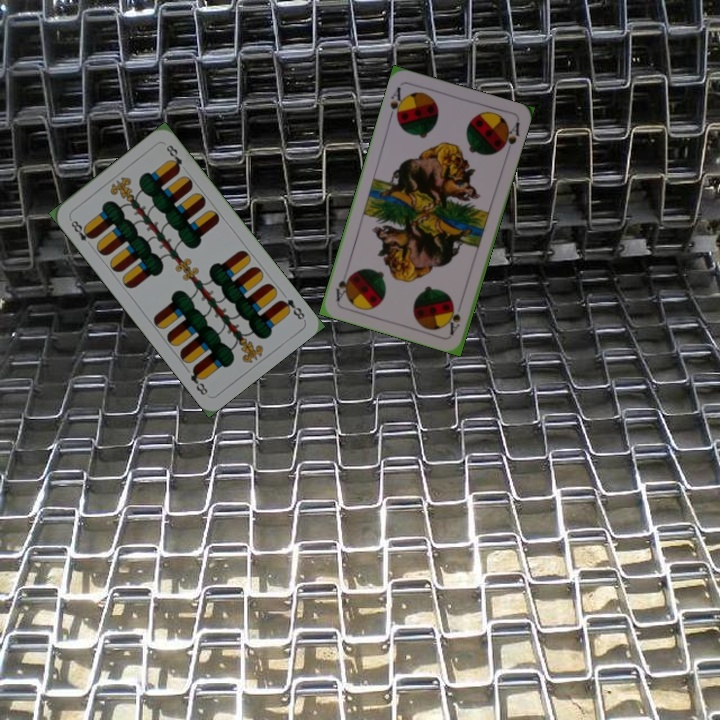E8: (66, 214, 96, 250), (275, 295, 307, 322)
SA: (385, 82, 407, 124), (445, 302, 463, 337)
